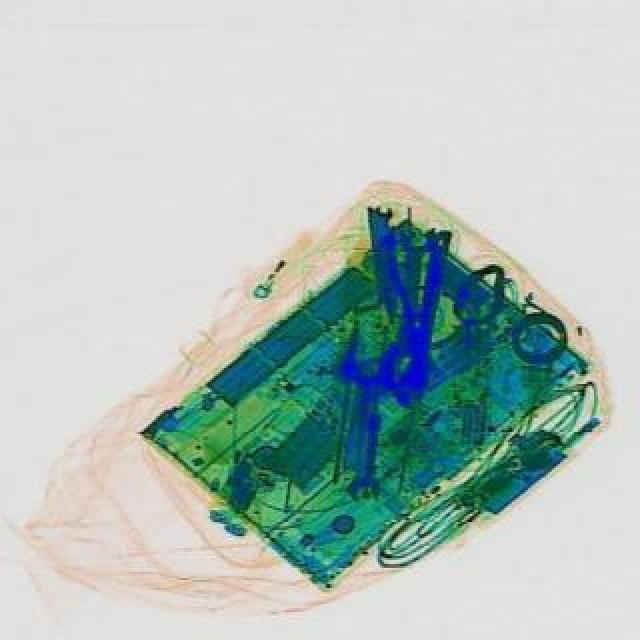scissors: (346, 356, 390, 500)
